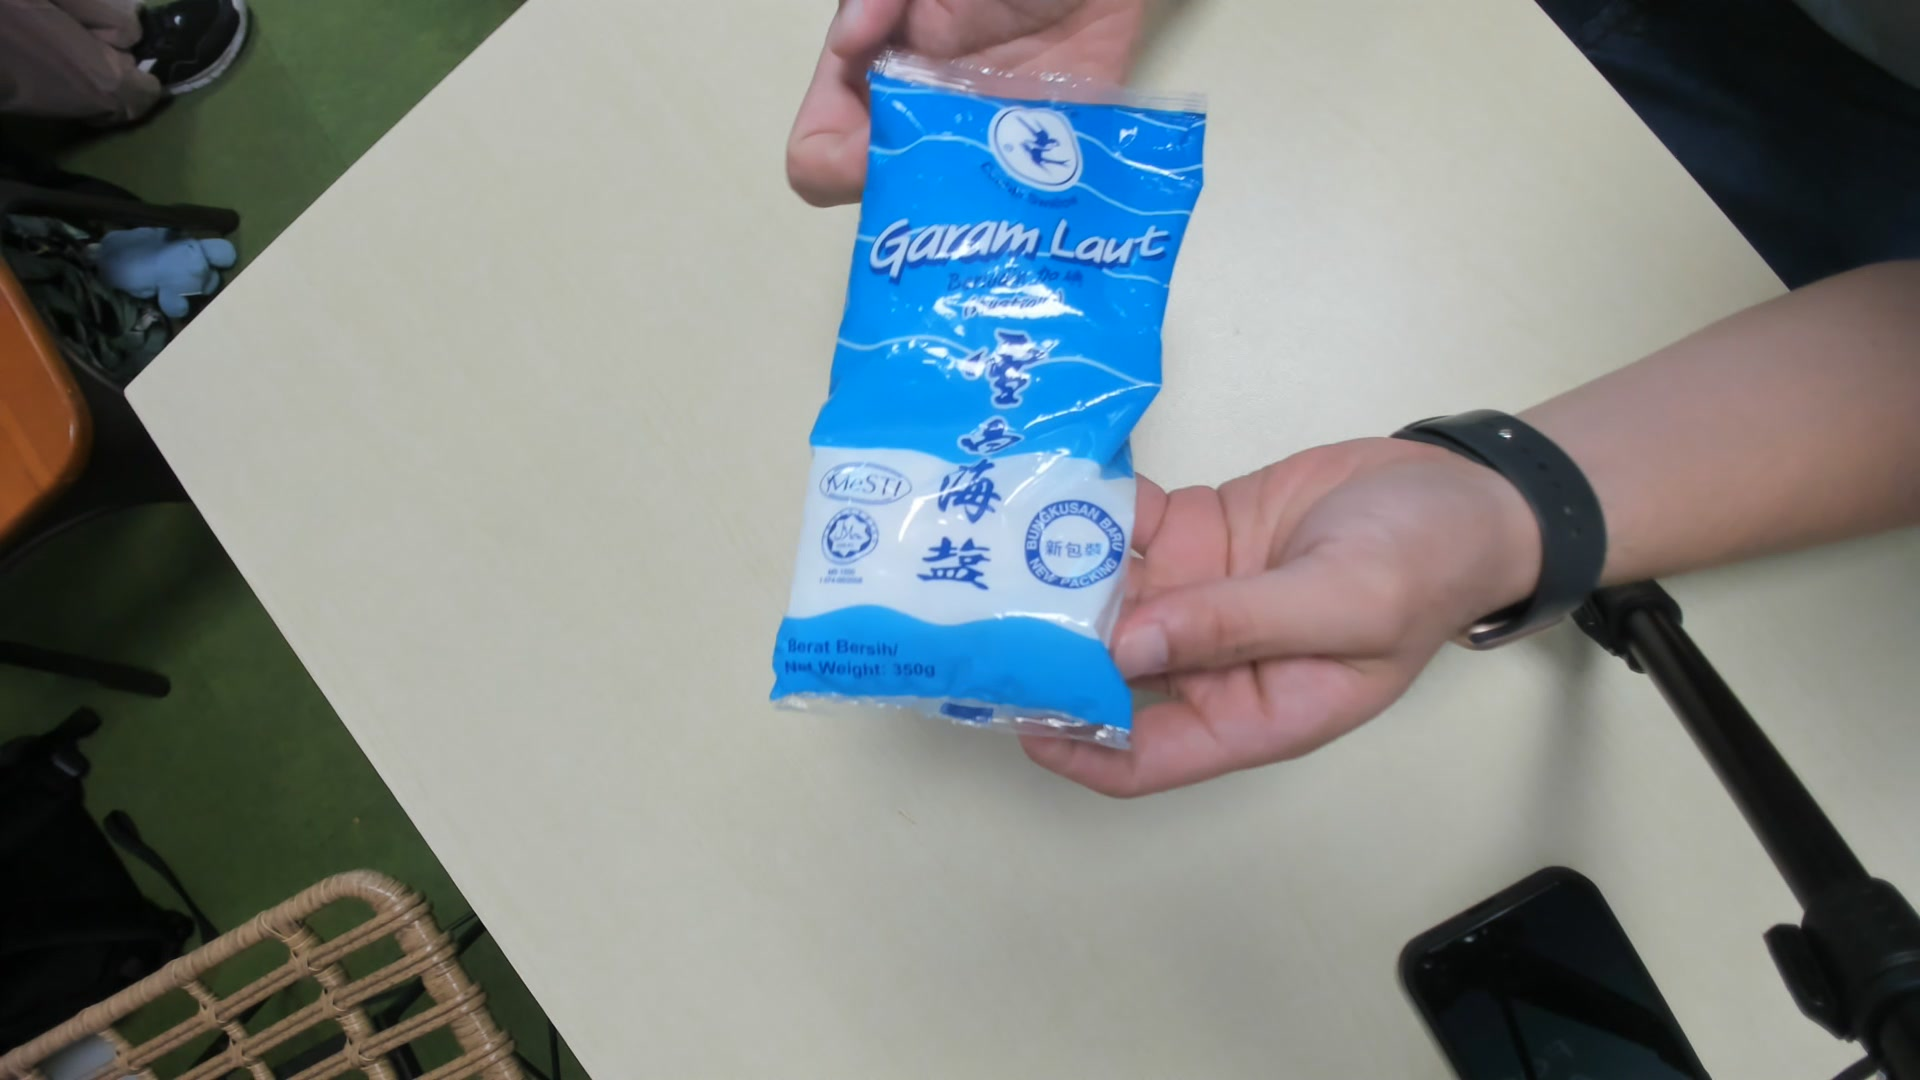Salt_300-399g_NonHalal_NonHealthy: (773, 65, 1203, 746)
